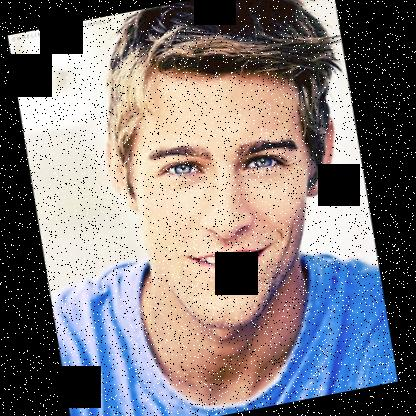Male: (87, 42, 369, 344)
